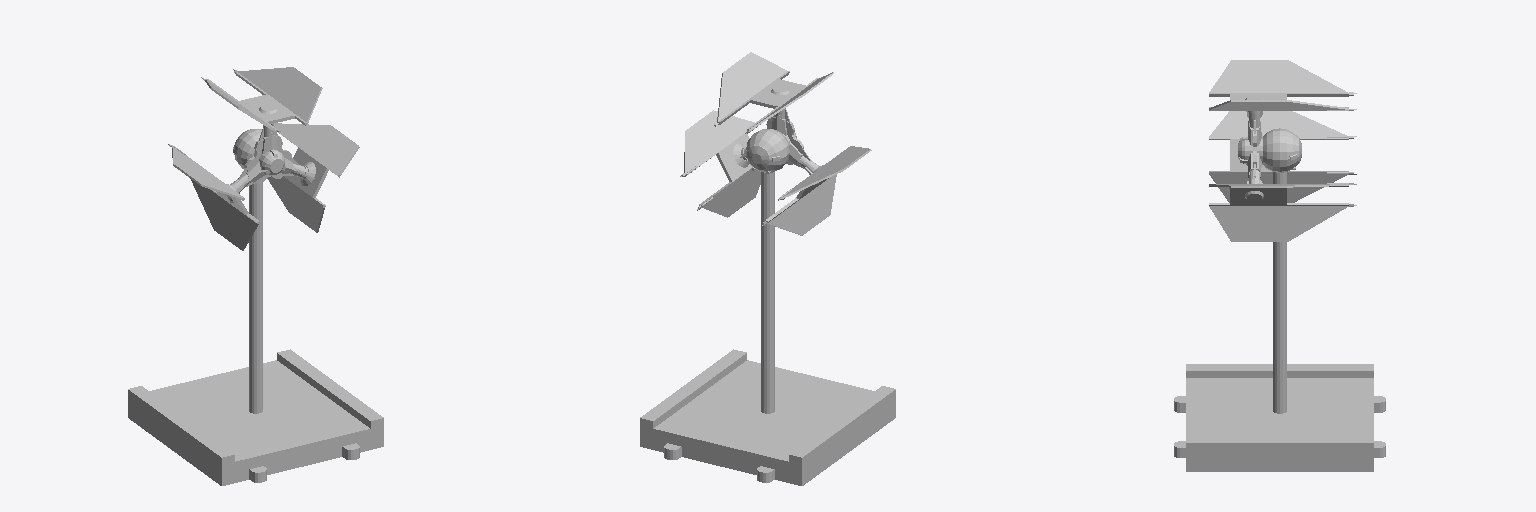
Rendered from TIE Defender.obj.
3 views of the same model, side by side, from view 1: azimuth 30°, elevation 25°; view 2: azimuth 150°, elevation 25°; view 3: azimuth 270°, elevation 25° (orthographic).
Visible parts, largest first — view 1: small_base_Cube.002, Wing.015, MiscHull.009, MainHull.000, MainHull.019; view 2: small_base_Cube.002, Wing.015, MainHull.000, MiscHull.009; view 3: small_base_Cube.002, Wing.015, MainHull.000, MiscHull.009.
Boxes of the visible parts, x1=… form: small_base_Cube.002: x1=128, y1=182, x2=383, y2=485; Wing.015: x1=172, y1=67, x2=359, y2=250; MiscHull.009: x1=230, y1=124, x2=314, y2=193; MainHull.000: x1=234, y1=129, x2=261, y2=168; MainHull.019: x1=238, y1=126, x2=298, y2=186; small_base_Cube.002: x1=640, y1=172, x2=895, y2=485; Wing.015: x1=684, y1=52, x2=871, y2=235; MainHull.000: x1=746, y1=129, x2=789, y2=172; MiscHull.009: x1=735, y1=108, x2=818, y2=174; small_base_Cube.002: x1=1174, y1=172, x2=1385, y2=471; Wing.015: x1=1209, y1=60, x2=1348, y2=241; MainHull.000: x1=1263, y1=128, x2=1298, y2=172; MiscHull.009: x1=1246, y1=111, x2=1262, y2=183.
Size of the model in its own units: 2.31 by 4.79 by 2.61.